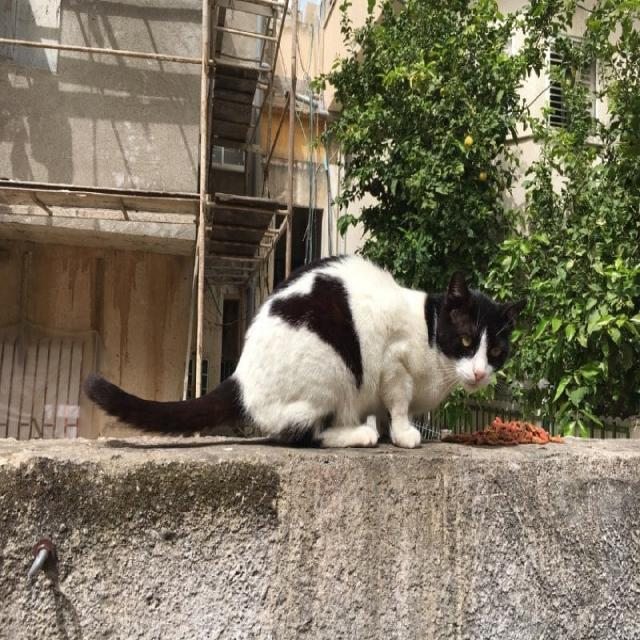cat: (85, 257, 525, 448)
